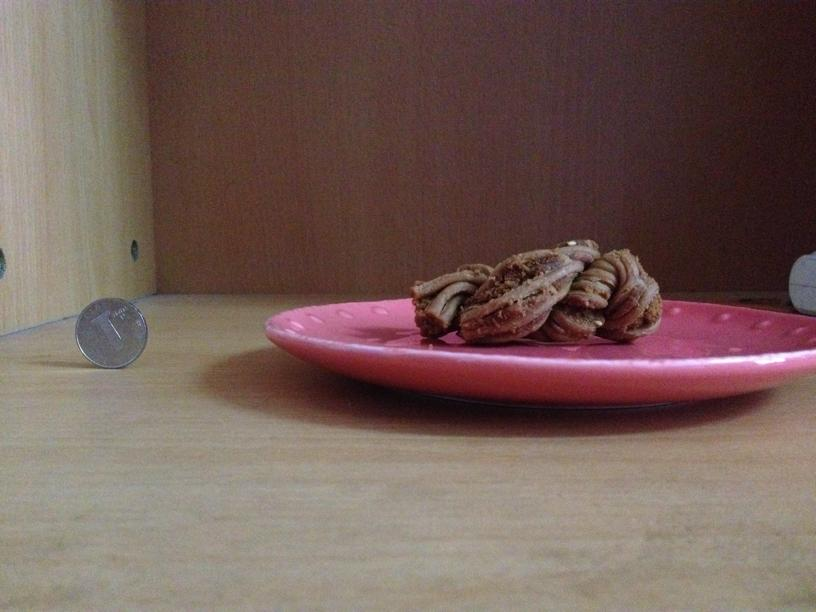coin: (75, 298, 148, 368)
fired_dough_twist: (409, 238, 661, 347)
